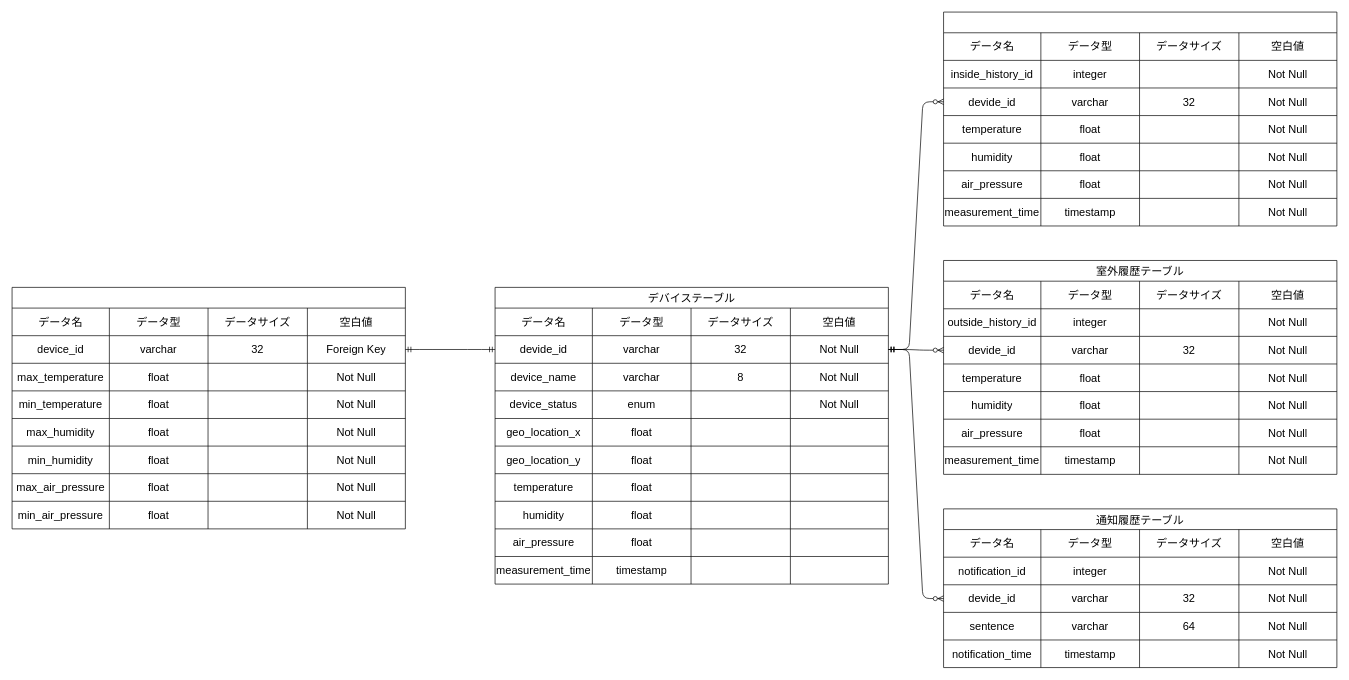
Some shapes in this 1349 by 680 pixel diagram are drawn without their labels. Each missing label, with the box of its shape:
室内履歴テーブル: (943, 11, 1337, 226)
閾値テーブル: (11, 287, 405, 529)
